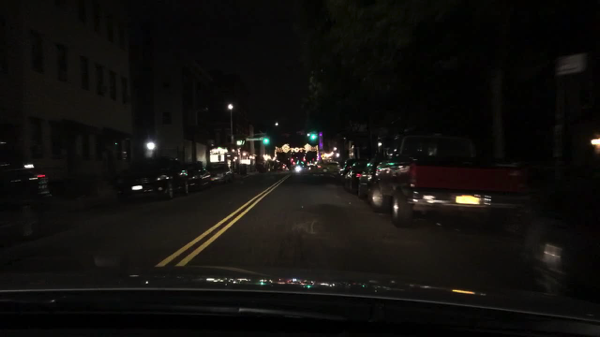car: (367, 133, 528, 231), (520, 155, 599, 302), (1, 141, 54, 241), (116, 157, 190, 204), (355, 133, 399, 201), (356, 156, 384, 200), (182, 159, 212, 191), (342, 161, 365, 193), (206, 162, 235, 185), (339, 157, 362, 186), (309, 159, 341, 178), (256, 155, 273, 174), (290, 162, 308, 176), (305, 162, 317, 175), (275, 162, 289, 171)
traffic light: (310, 131, 317, 141), (263, 137, 269, 146)
traffic sign: (245, 138, 263, 142), (303, 145, 312, 153)
